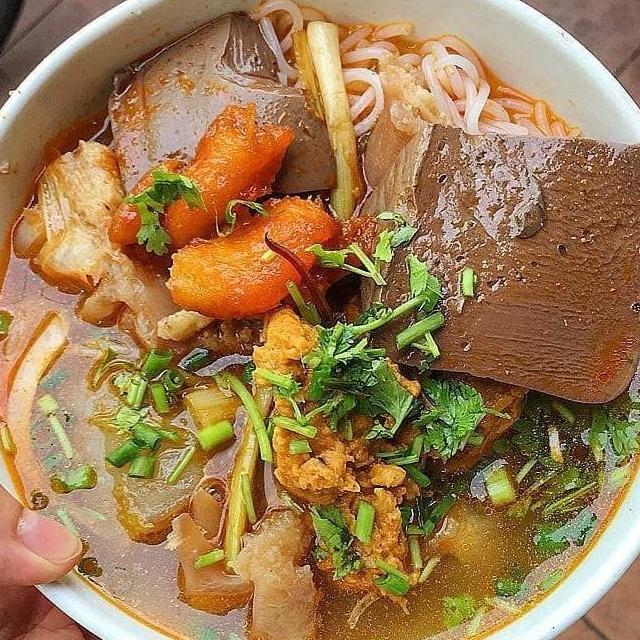bun: (246, 0, 588, 160)
